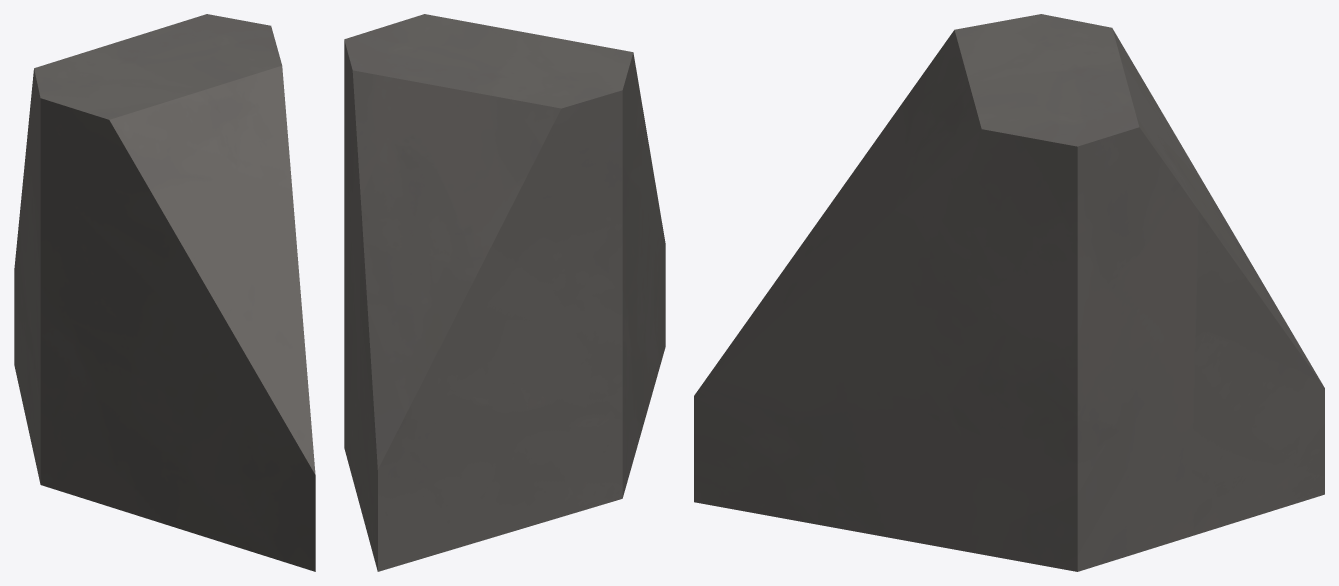
Rendered from Rock_18.fbx.
3 renders of one model, left to right at view 1: azimuth 30°, elevation 25°; view 2: azimuth 150°, elevation 25°; view 3: azimuth 270°, elevation 25°, orthographic. The views are drawn at different scales.
Visible parts, largest first — view 1: Rock_18; view 2: Rock_18; view 3: Rock_18.
Boxes of the visible parts, x1,y1,x2,y2 form: Rock_18: (14, 14, 315, 571); Rock_18: (344, 14, 665, 571); Rock_18: (694, 14, 1324, 571).
Size of the model in its own units: 43.2 by 64.61 by 86.86.
